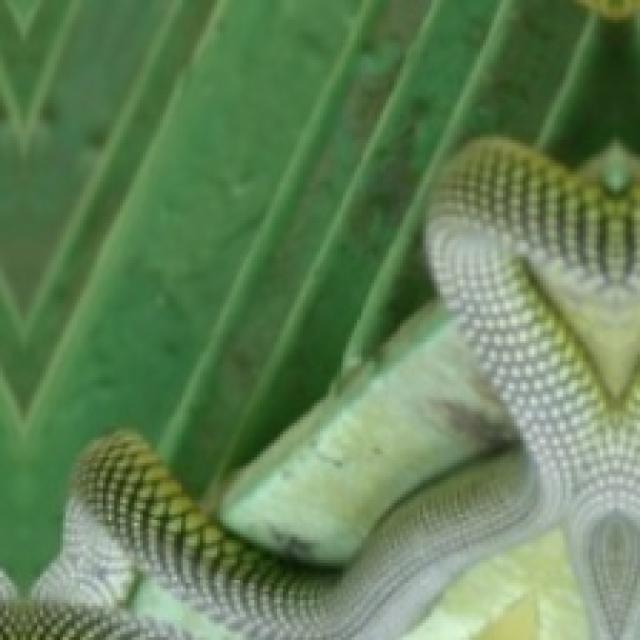paradise tree snake: (37, 140, 637, 637)
